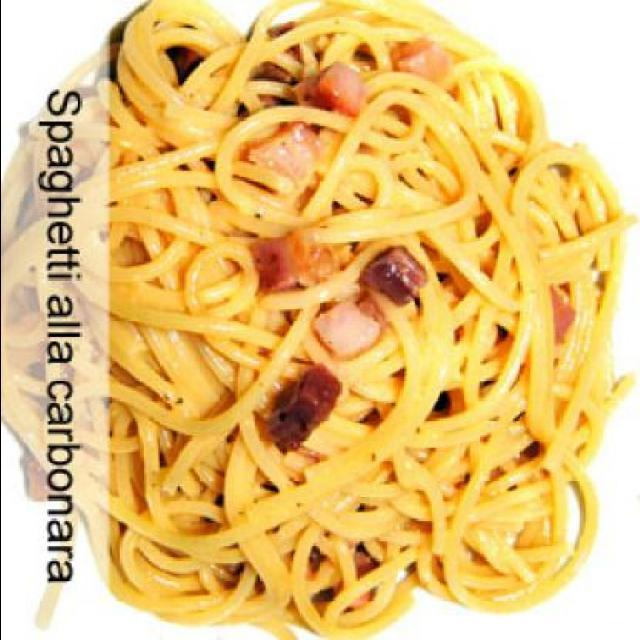Pasta with carbonara sauce: (106, 17, 617, 623)
